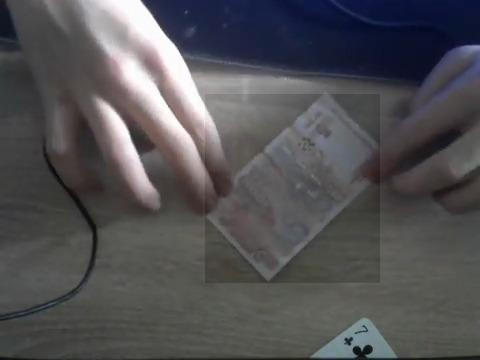5leva: (205, 94, 380, 283)
